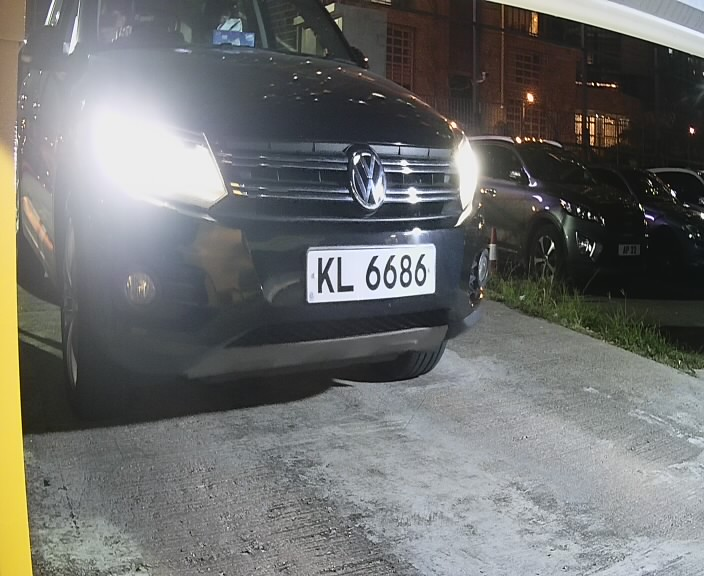Car: (18, 2, 508, 413)
License Plate: (300, 237, 440, 315)
